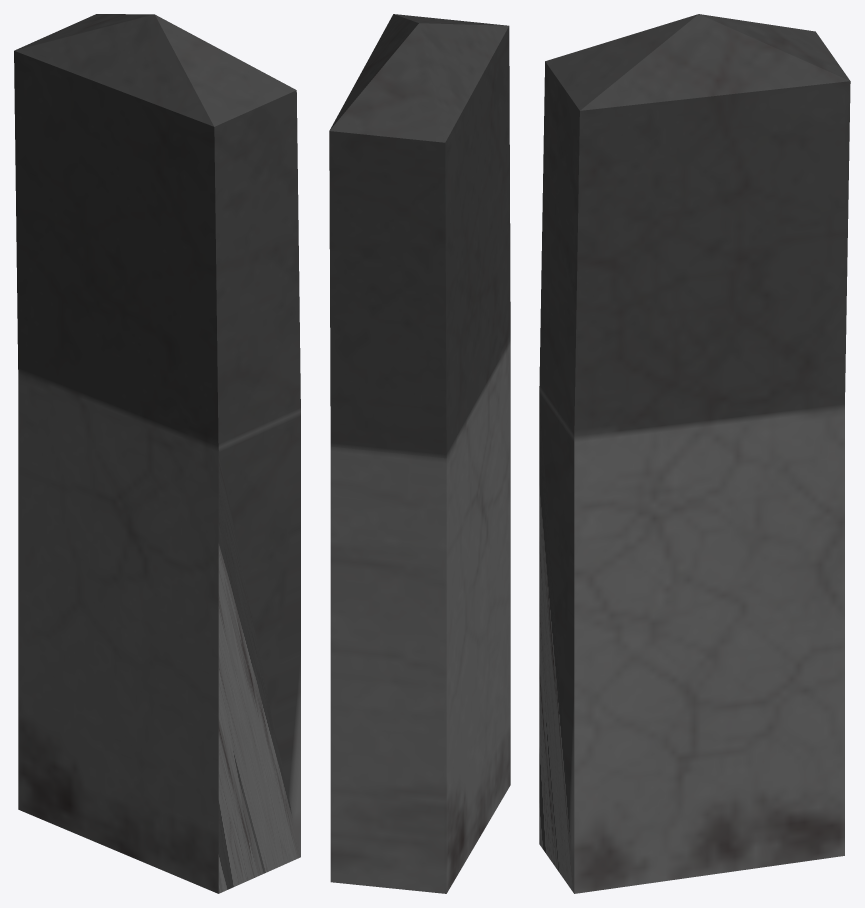
Rendered from Tiangbesi.fbx.
The picture shows the model from 3 angles, left to right: view 1: azimuth 30°, elevation 25°; view 2: azimuth 150°, elevation 25°; view 3: azimuth 270°, elevation 25°; orthographic projection. The views are drawn at different scales.
Parts seen in each view (by area): view 1: Pagar low 2.003; view 2: Pagar low 2.003; view 3: Pagar low 2.003.
Boxes of the visible parts, <box> form: Pagar low 2.003: <box>14,14,300,893</box>; Pagar low 2.003: <box>329,14,510,893</box>; Pagar low 2.003: <box>539,14,850,893</box>.
Bounding box in the file's own units: 89.85 × 416 × 140.
